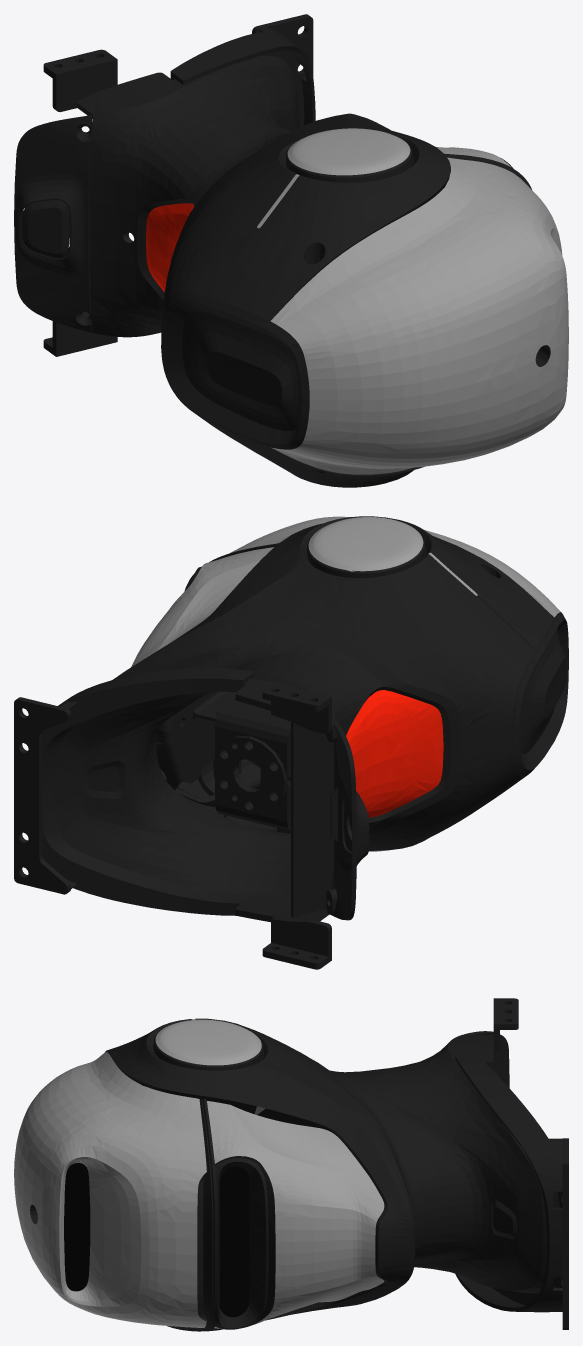
Rendered from head.obj.
3 renders of one model, top to bottom at view 1: azimuth 30°, elevation 25°; view 2: azimuth 150°, elevation 25°; view 3: azimuth 270°, elevation 25°, orthographic. The views are drawn at different scales.
Parts seen in each view (by area): view 1: LINK_HEAD_YAW; view 2: LINK_HEAD_YAW; view 3: LINK_HEAD_YAW.
Part boxes in pixels (<box>): LINK_HEAD_YAW: <box>14,14,568,487</box>; LINK_HEAD_YAW: <box>14,516,568,969</box>; LINK_HEAD_YAW: <box>14,998,568,1331</box>.
Size of the model in its own units: 0.1779 by 0.1464 by 0.266.
